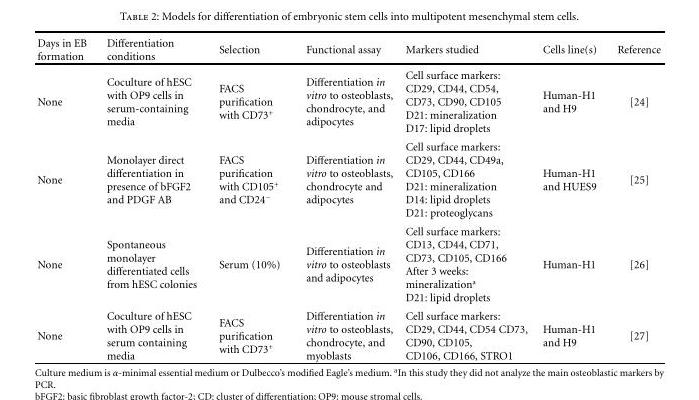table: (36, 36, 660, 361)
table column: (398, 36, 534, 361), (95, 36, 207, 361), (292, 36, 398, 361), (207, 36, 292, 361), (534, 36, 606, 361), (36, 36, 95, 361), (606, 36, 660, 361)
table column header: (36, 36, 660, 65)
table row: (36, 221, 660, 306), (36, 137, 660, 221), (36, 65, 660, 137), (36, 306, 660, 361), (36, 36, 660, 65)
